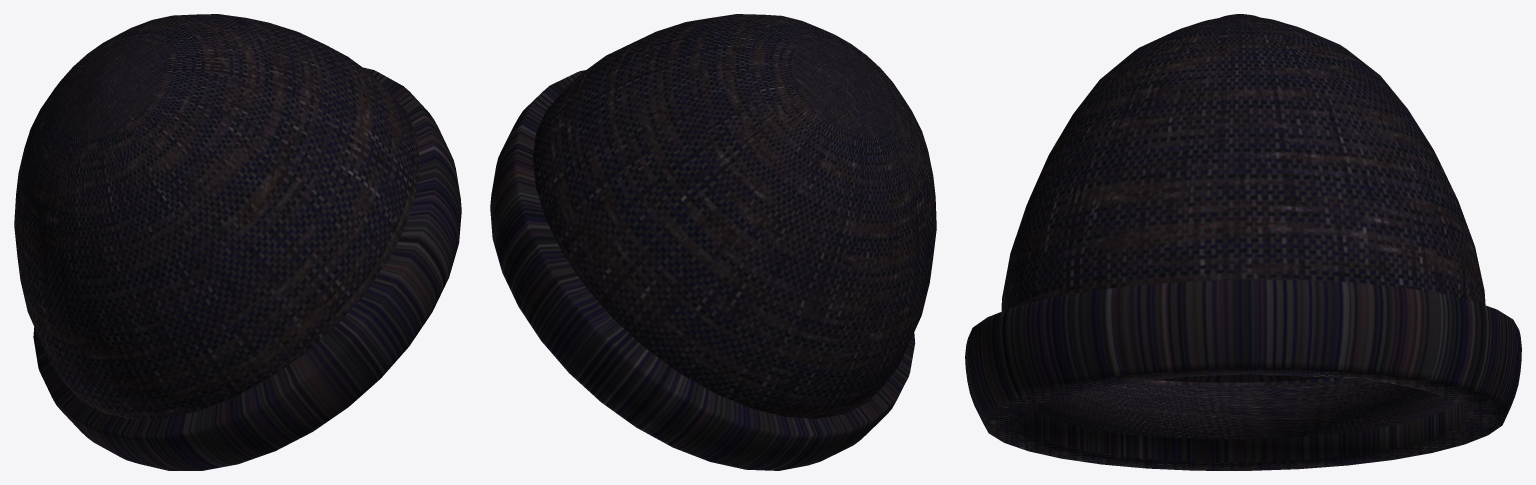
File: ice_cap.glb
3 renders of one model, left to right at view 1: azimuth 30°, elevation 25°; view 2: azimuth 150°, elevation 25°; view 3: azimuth 270°, elevation 25°, orthographic. The views are drawn at different scales.
Parts seen in each view (by area): view 1: Cylinder.022_2; view 2: Cylinder.022_2; view 3: Cylinder.022_2.
Part boxes in pixels (box(x1,y1,x2,y2)): Cylinder.022_2: box(14, 14, 461, 470); Cylinder.022_2: box(490, 14, 936, 470); Cylinder.022_2: box(965, 14, 1521, 470).
Size of the model in its own units: 0.6141 by 0.6092 by 0.6415.
1 material, 1 textured.
